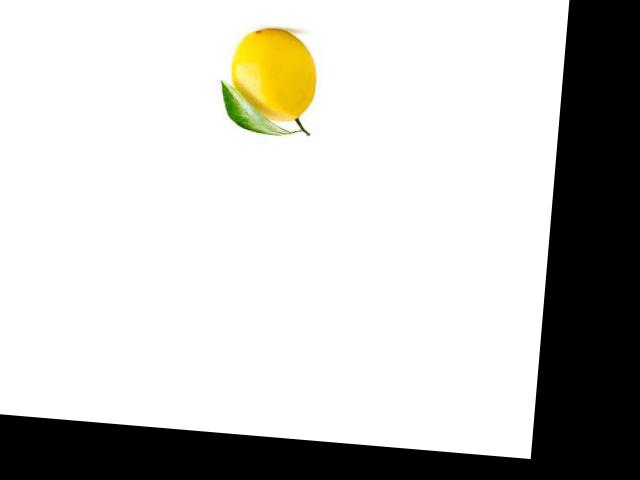lemon: (222, 17, 326, 132)
